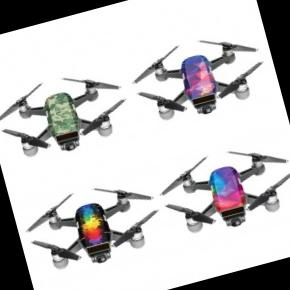drone: (17, 166, 170, 287), (149, 127, 290, 249), (122, 22, 274, 134), (0, 59, 138, 176)
